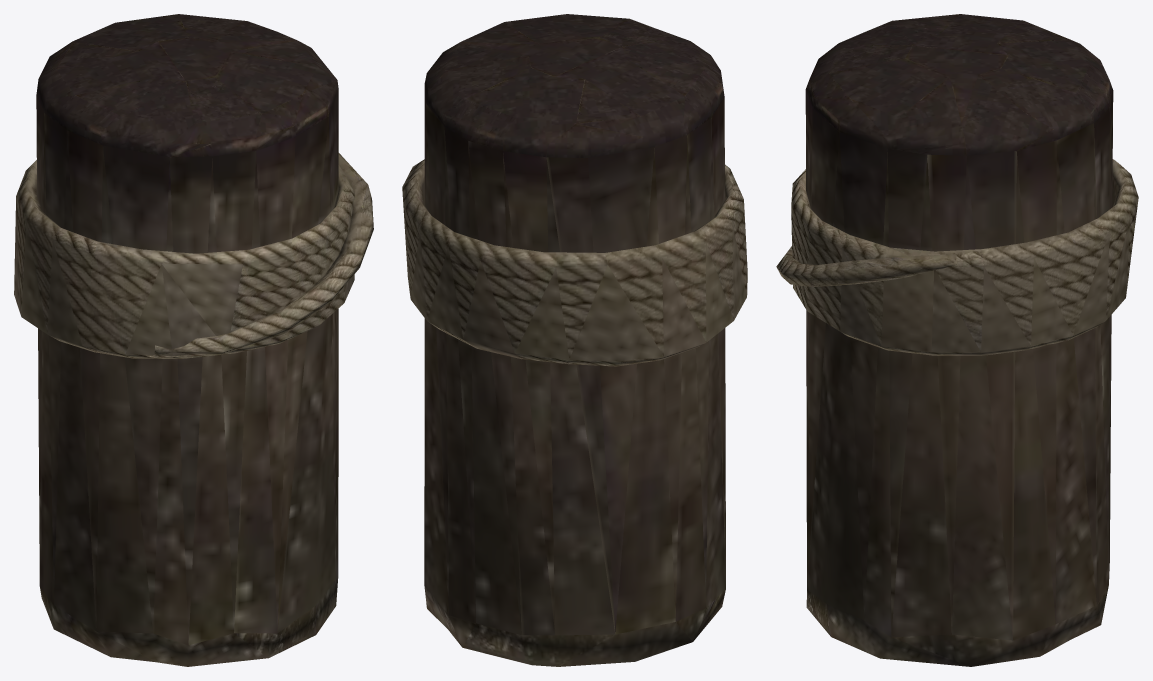
The model's file is bollard.glb.
3 renders of one model, left to right at view 1: azimuth 30°, elevation 25°; view 2: azimuth 150°, elevation 25°; view 3: azimuth 270°, elevation 25°, orthographic.
Bounding box in the file's own units: 0.5484 × 0.9517 × 0.5704.
1 material, 1 textured.
